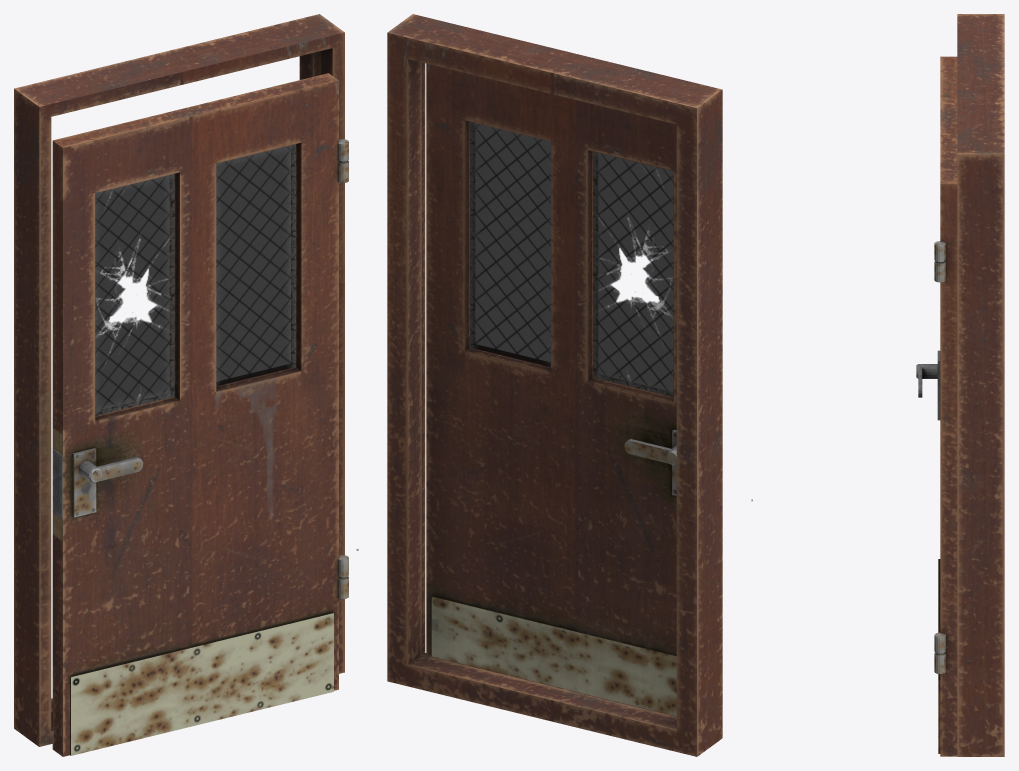
The model's file is door.glb.
The picture shows the model from 3 angles, left to right: view 1: azimuth 30°, elevation 25°; view 2: azimuth 150°, elevation 25°; view 3: azimuth 270°, elevation 25°; orthographic projection. The views are drawn at different scales.
Parts seen in each view (by area): view 1: Cube.002_Cube.000, Cube.002_Cube.001; view 2: Cube.002_Cube.000, Cube.002_Cube.001; view 3: Cube.002_Cube.001, Cube.002_Cube.000.
Part boxes in pixels (x1,y1,x2,y2): Cube.002_Cube.000: (52,73,348,756); Cube.002_Cube.001: (14,14,344,746); Cube.002_Cube.000: (426,63,676,715); Cube.002_Cube.001: (387,14,722,756); Cube.002_Cube.001: (957,14,1004,756); Cube.002_Cube.000: (916,56,957,756).
Size of the model in its own units: 396 by 802 by 302.
2 materials, 1 textured.
